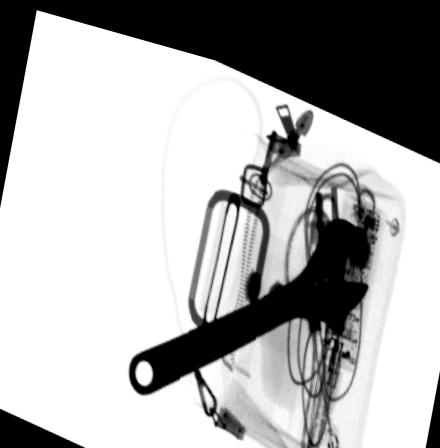Wrench: (125, 196, 372, 390)
